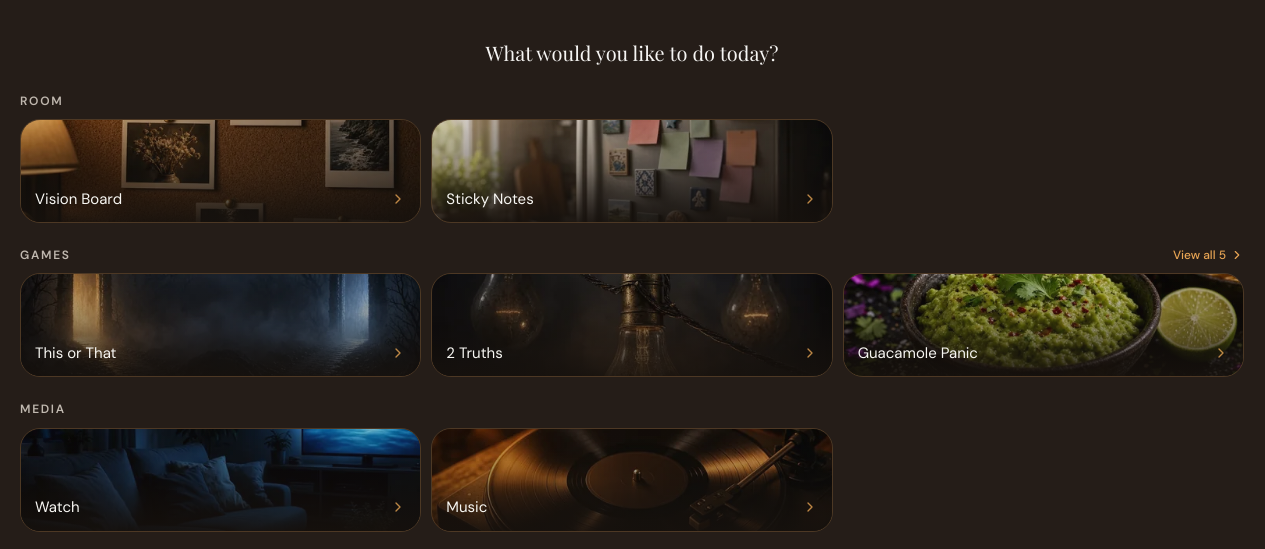
Scenario: ActivityLobby › carries no per-game copy up front; the lines live behind the door
Expected: the text "Five snap choices" is not shown
Click the button "View all 5" at (1208, 255), box [1173,247,1244,263]
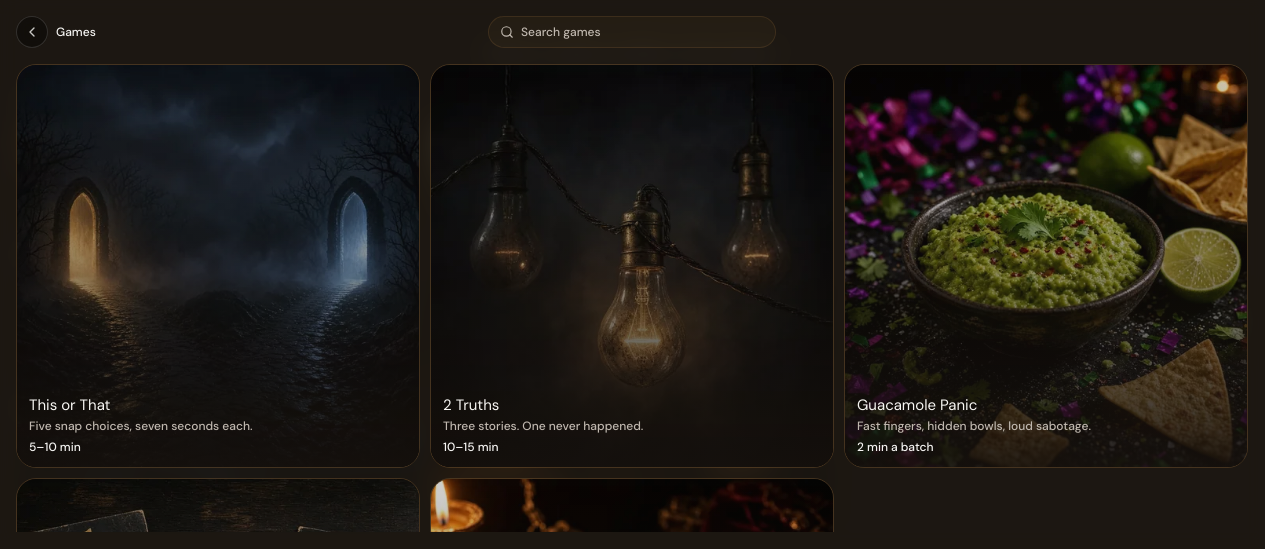
Result: the text "Five snap choices, seven seconds each." is shown at [29,418,253,434]
Result: the text "5–10 min" is shown at [29,439,81,455]
